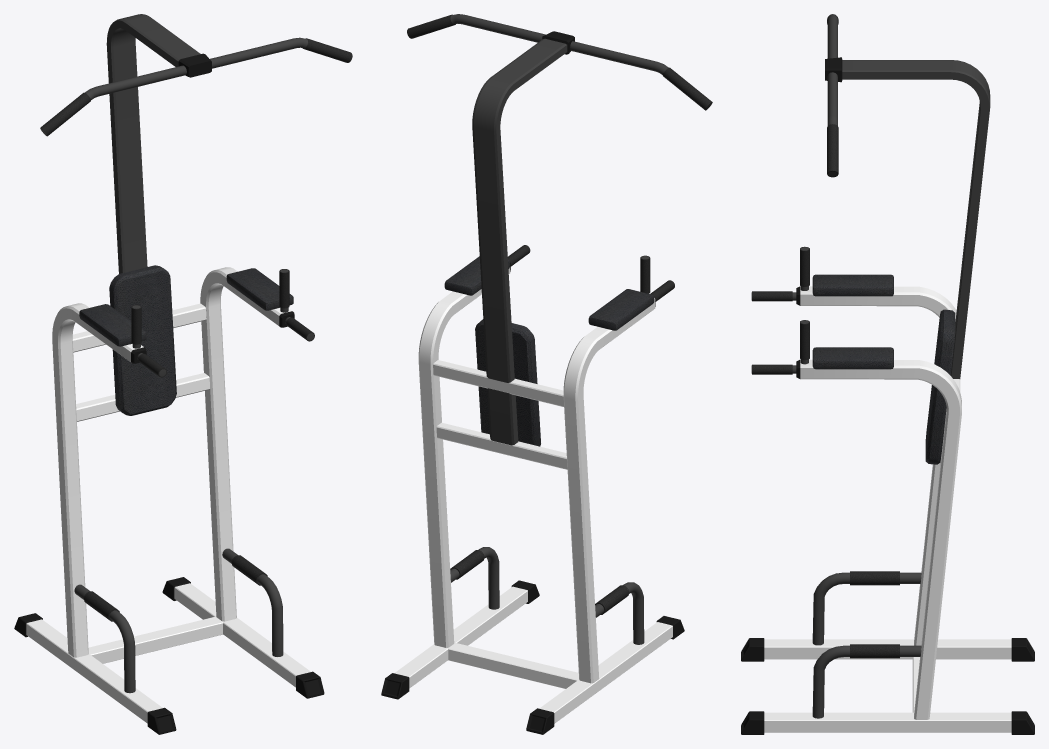
The model's file is Power_Tower.FBX.
The picture shows the model from 3 angles, left to right: view 1: azimuth 30°, elevation 25°; view 2: azimuth 150°, elevation 25°; view 3: azimuth 270°, elevation 25°; orthographic projection. The views are drawn at different scales.
Bounding box in the file's own units: 1.27 × 1.03 × 2.44.
